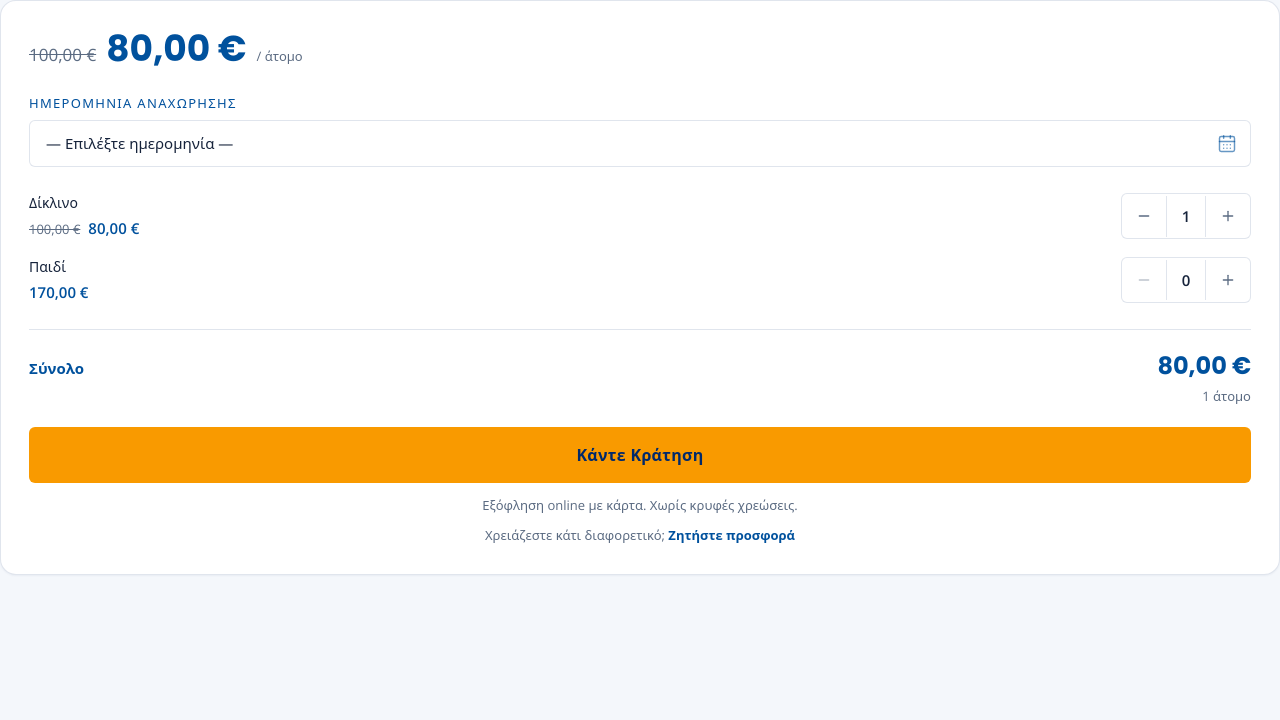
Scenario: TourBookingWidget › το κουμπί αύξησης κλειδώνει στο max_qty της κατηγορίας
This screenshot has width=1280, height=720.
Click the button named "Αύξηση, Παιδί" at [1228, 280], box [1206,258,1250,302]
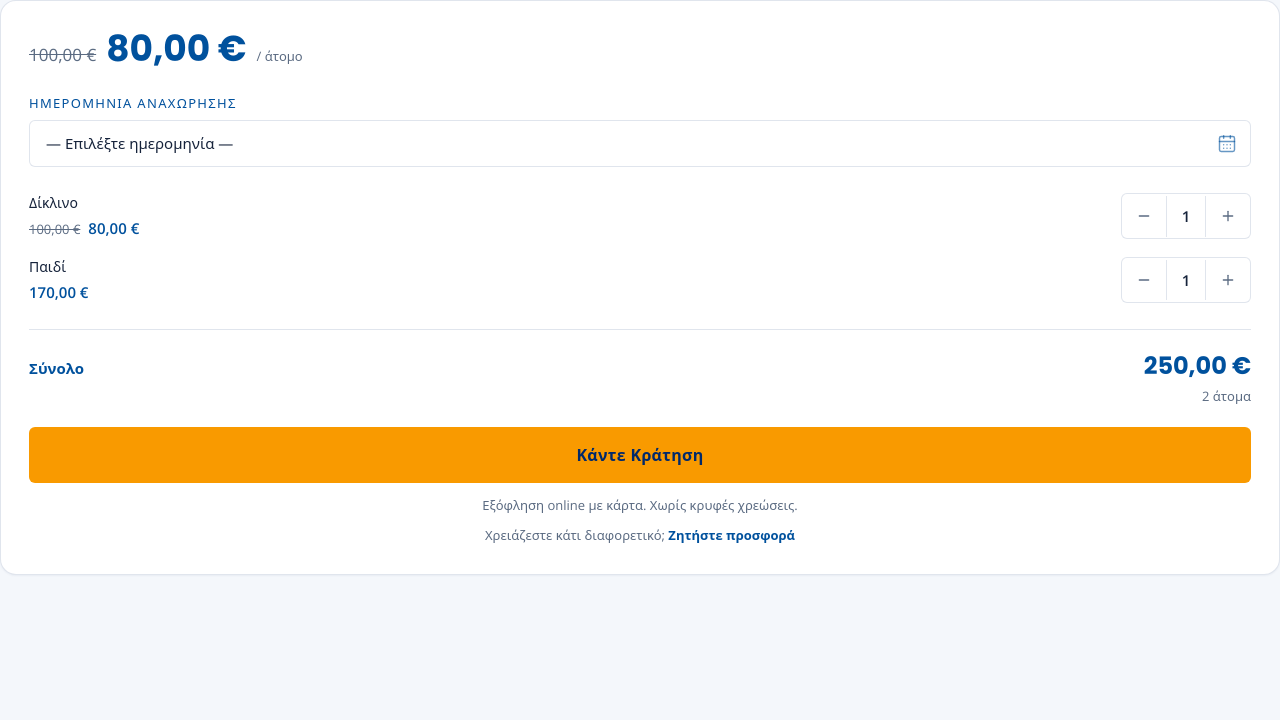
Click the button named "Αύξηση, Παιδί" at [1228, 280], box [1206,258,1250,302]
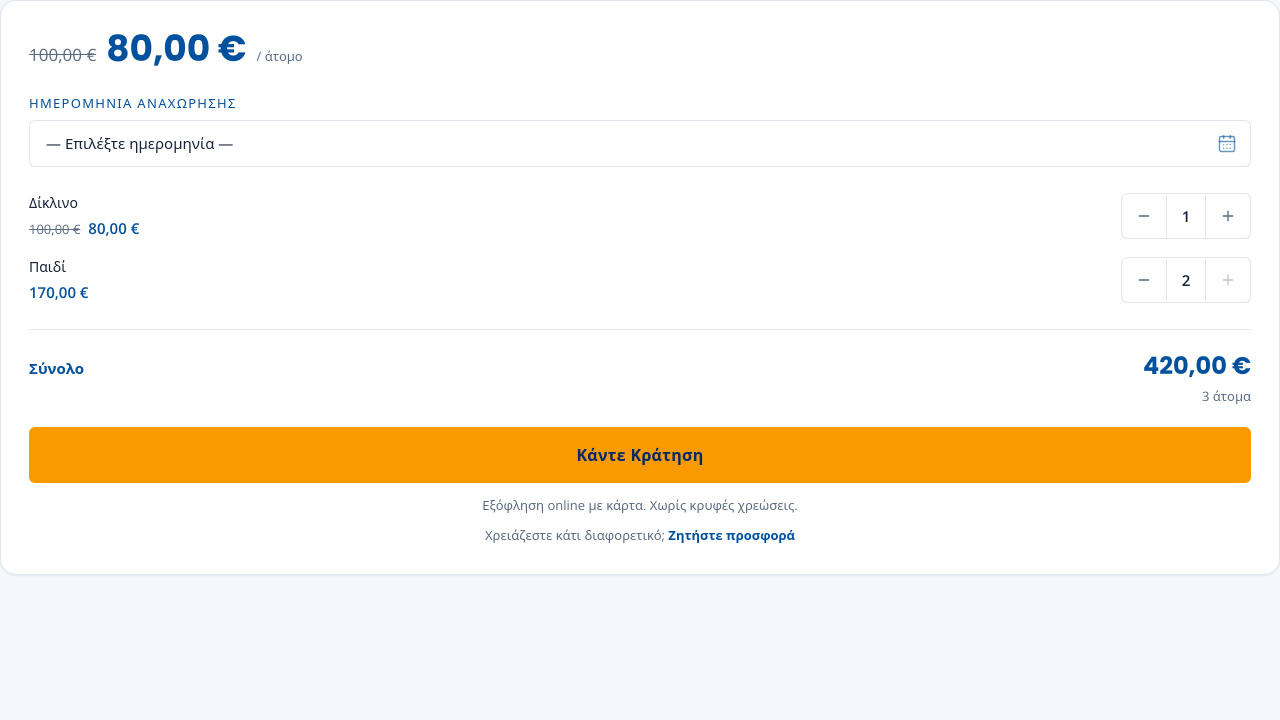
Now the number field named "Άτομα, Παιδί" holds "2", box [1166,260,1206,300]
Now the button named "Αύξηση, Παιδί" is disabled, box [1206,258,1250,302]
